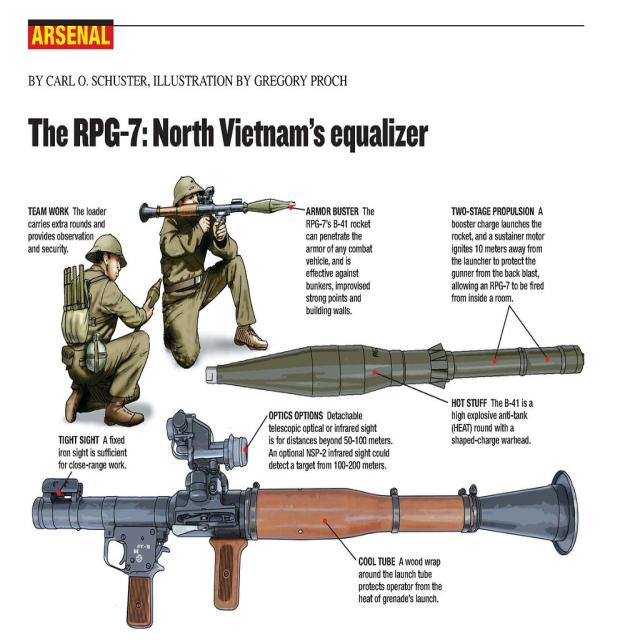Gun: (19, 437, 580, 623)
